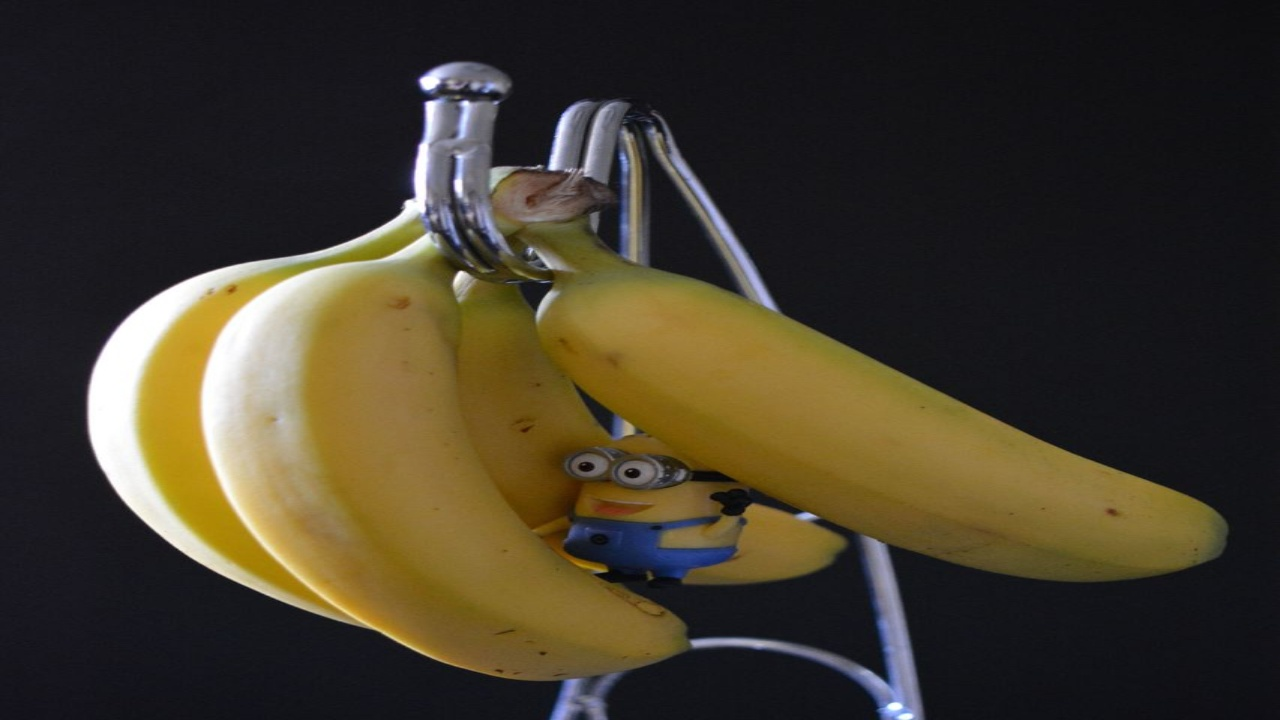banana: (71, 183, 1225, 671)
